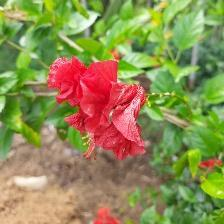hibiscus: (47, 54, 159, 165)
